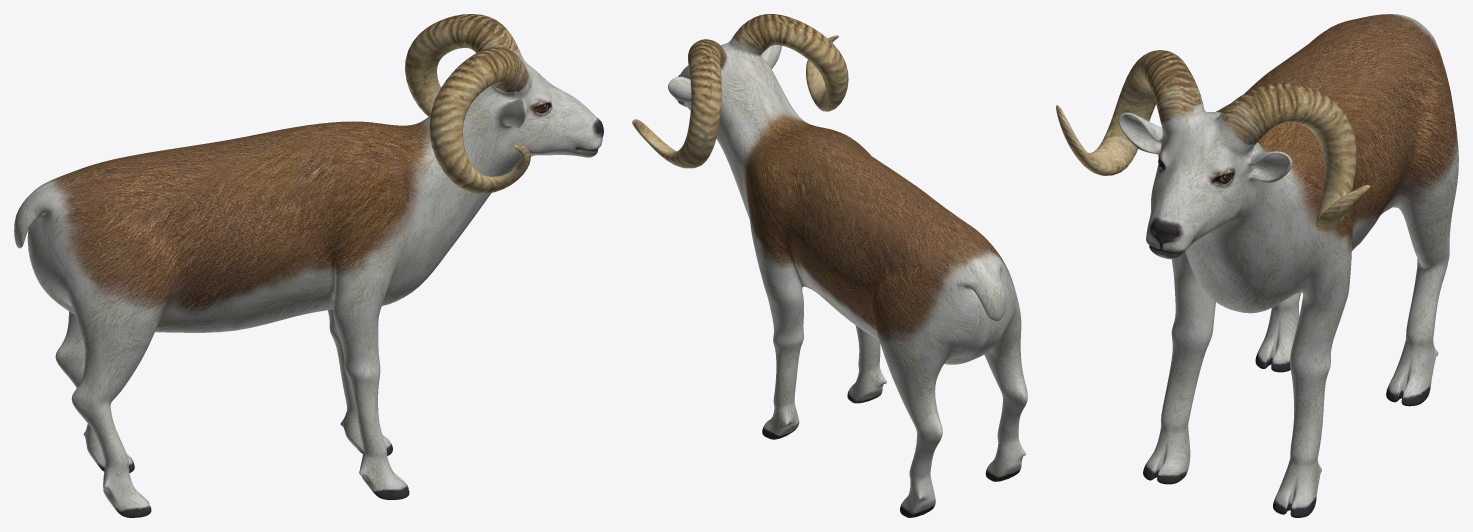
File: 13574_Marco_Polo_Sheep_resized_fixed.obj
The picture shows the model from 3 angles, left to right: view 1: azimuth 30°, elevation 25°; view 2: azimuth 150°, elevation 25°; view 3: azimuth 270°, elevation 25°; orthographic projection. The views are drawn at different scales.
Visible parts, largest first — view 1: 13574_Marco_Polo_Sheep_v1_L3.001; view 2: 13574_Marco_Polo_Sheep_v1_L3.001; view 3: 13574_Marco_Polo_Sheep_v1_L3.001.
Part boxes in pixels (x1,y1,x2,y2): 13574_Marco_Polo_Sheep_v1_L3.001: (14, 14, 603, 517); 13574_Marco_Polo_Sheep_v1_L3.001: (632, 14, 1027, 517); 13574_Marco_Polo_Sheep_v1_L3.001: (1056, 14, 1458, 517).
Size of the model in its own units: 6.59 by 5.65 by 4.22.
Materials: 1 (1 with a texture image).
